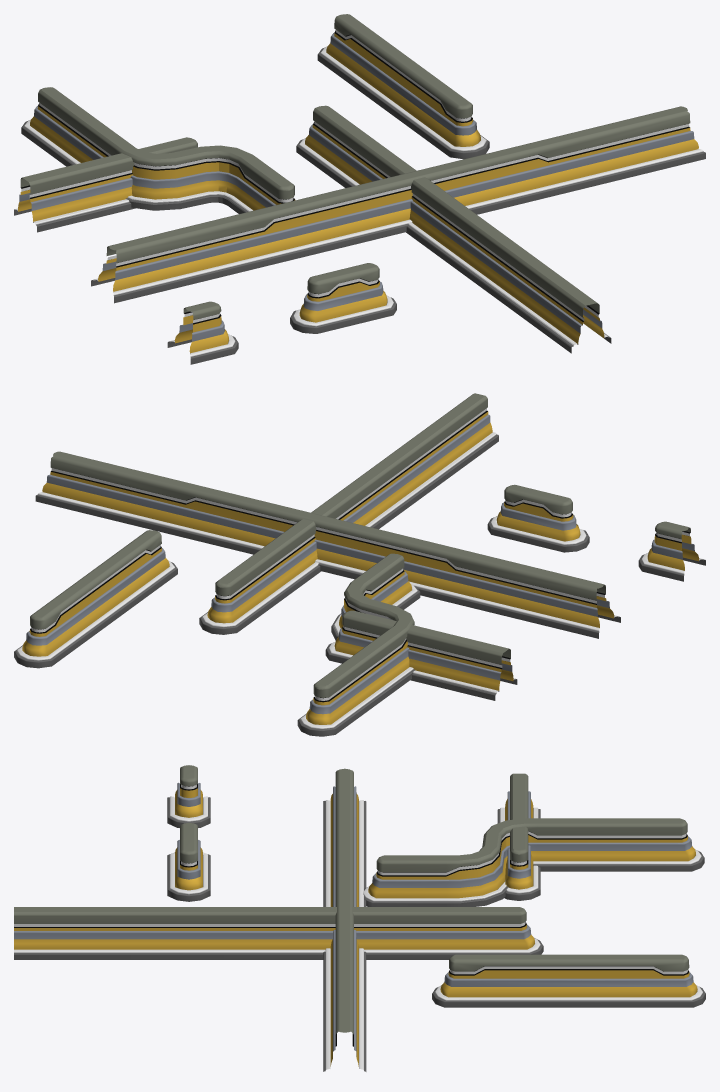
Rendered from Level24_Small_walls.fbx.
3 renders of one model, top to bottom at view 1: azimuth 30°, elevation 25°; view 2: azimuth 150°, elevation 25°; view 3: azimuth 270°, elevation 25°, orthographic. The views are drawn at different scales.
Parts seen in each view (by area): view 1: Small_wallv1_4, Small_wall_L37, Small_wall_L57, Small_wallv1_18, Small_wall_L6, Small_wallv1_17, Small_wallv2_15; view 2: Small_wallv1_4, Small_wall_L37, Small_wall_L57, Small_wallv1_18, Small_wall_L6, Small_wallv1_17, Small_wallv2_15; view 3: Small_wall_L37, Small_wall_L57, Small_wallv1_18, Small_wallv1_4, Small_wall_L6, Small_wallv1_17, Small_wallv2_15.
Part boxes in pixels (box(x1,y1,x2,y2)): Small_wallv1_4: box(91, 106, 705, 303); Small_wall_L37: box(296, 105, 611, 353); Small_wall_L57: box(21, 87, 295, 213); Small_wallv1_18: box(317, 14, 489, 159); Small_wall_L6: box(14, 137, 197, 232); Small_wallv1_17: box(290, 263, 396, 333); Small_wallv2_15: box(167, 301, 238, 364); Small_wallv1_4: box(35, 451, 620, 638); Small_wall_L37: box(199, 393, 498, 634); Small_wall_L57: box(297, 553, 420, 736); Small_wallv1_18: box(14, 530, 177, 668); Small_wall_L6: box(325, 610, 517, 700); Small_wallv1_17: box(487, 484, 589, 552); Small_wallv2_15: box(638, 521, 705, 581); Small_wall_L37: box(14, 907, 543, 959); Small_wall_L57: box(363, 818, 704, 906); Small_wallv1_18: box(432, 954, 705, 1007); Small_wallv1_4: box(323, 768, 366, 1071); Small_wall_L6: box(497, 773, 540, 900); Small_wallv1_17: box(167, 823, 210, 901); Small_wallv2_15: box(167, 765, 210, 827).
Bounding box in the file's own units: 517 × 38.67 × 552.
